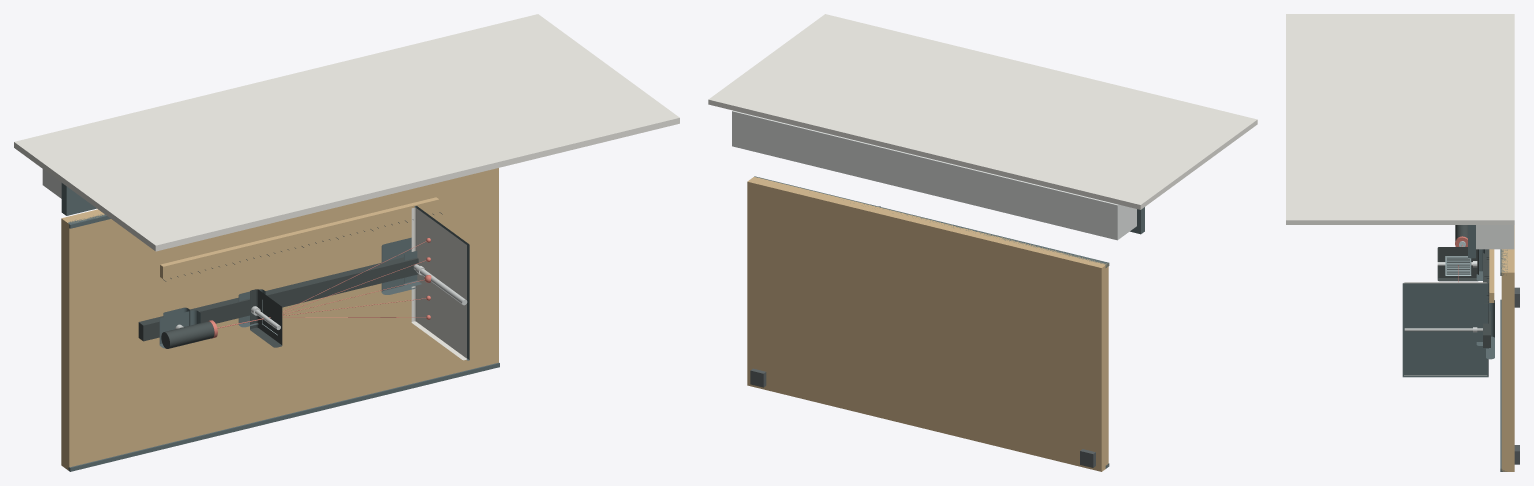
File: rp02-diffraction-grating.glb
The picture shows the model from 3 angles, left to right: view 1: azimuth 30°, elevation 25°; view 2: azimuth 150°, elevation 25°; view 3: azimuth 270°, elevation 25°; orthographic projection. The views are drawn at different scales.
Parts seen in each view (by area): view 1: Laboratory background wall, Laboratory bench laminate, Projection screen, Optical rail, Metre rule, Laboratory bench dark edge, Diffraction grating holder, Laser anodised barrel, Screen cast base; view 2: Laboratory bench laminate, Laboratory background wall, Laboratory background cabinet carcass, Laboratory bench rear edge; view 3: Laboratory background wall, Projection screen rear, Laboratory bench laminate, Laboratory background cabinet carcass, Diffraction grating holder, Diffraction grating, Optical rail, Laboratory bench dark edge, Metre rule, Screen cast base, Screen vertical support, Laboratory background worktop.
Boxes of the visible parts, x1,y1,x2,y2 form: Laboratory background wall: (14,14,679,251); Laboratory bench laminate: (61,168,498,470); Projection screen: (411,207,466,360); Optical rail: (138,257,418,341); Metre rule: (160,197,439,278); Laboratory bench dark edge: (66,362,499,471); Diffraction grating holder: (250,289,282,347); Laser anodised barrel: (161,321,214,348); Screen cast base: (381,237,416,294); Laboratory bench laminate: (747,177,1108,471); Laboratory background wall: (708,14,1257,209); Laboratory background cabinet carcass: (732,110,1136,240); Laboratory bench rear edge: (754,176,1109,267); Laboratory background wall: (1286,14,1514,224); Projection screen rear: (1402,283,1488,377); Laboratory bench laminate: (1501,225,1514,471); Laboratory background cabinet carcass: (1476,225,1514,249); Diffraction grating holder: (1437,247,1478,281); Diffraction grating: (1445,256,1471,275); Optical rail: (1483,249,1490,347); Laboratory bench dark edge: (1500,299,1506,471); Metre rule: (1489,249,1494,302); Screen cast base: (1486,299,1494,359); Screen vertical support: (1404,328,1482,331); Laboratory background worktop: (1468,225,1475,258).
Bounding box in the file's own units: 11.1 × 6.78 × 5.32.
